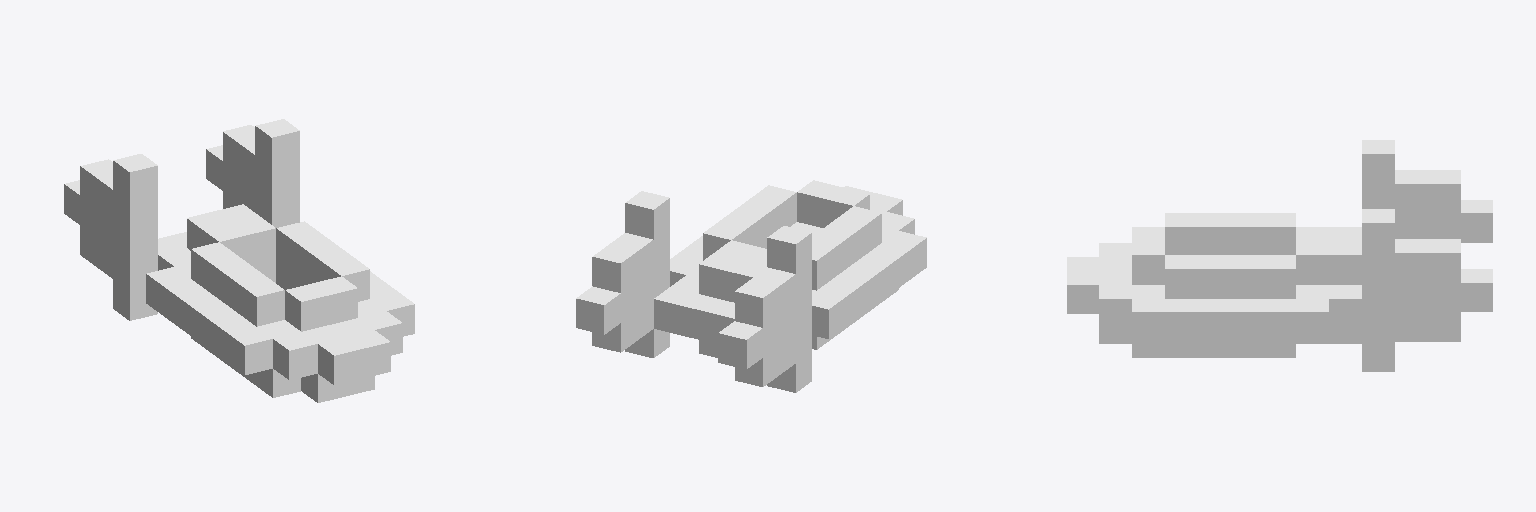
The model's file is naves-4.obj.
3 renders of one model, left to right at view 1: azimuth 30°, elevation 25°; view 2: azimuth 150°, elevation 25°; view 3: azimuth 270°, elevation 25°, orthographic.
Parts seen in each view (by area): view 1: object 1; view 2: object 1; view 3: object 1.
Part boxes in pixels (x1,y1,x2,y2): object 1: (64, 119, 414, 402); object 1: (576, 180, 926, 392); object 1: (1067, 140, 1492, 371).
Bounding box in the file's own units: 0.6 × 0.5 × 1.3.